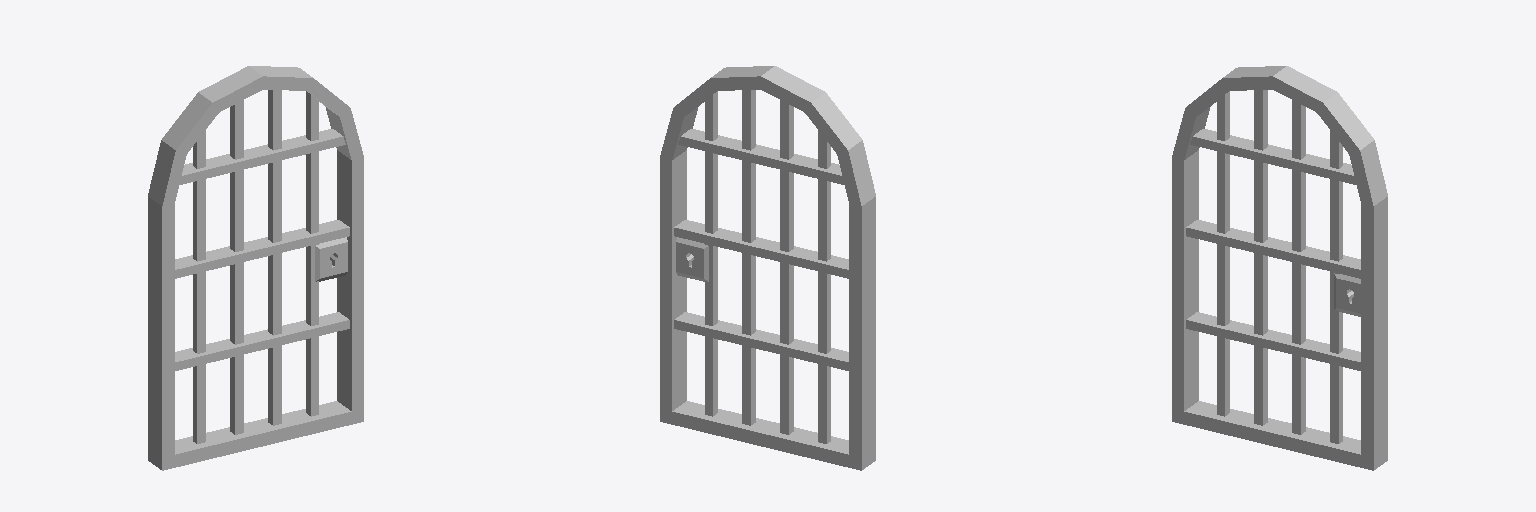
The model's file is iron_bar_door.obj.
The picture shows the model from 3 angles: view 1: azimuth 30°, elevation 25°; view 2: azimuth 150°, elevation 25°; view 3: azimuth 330°, elevation 25°; orthographic projection.
Visible parts, largest first — view 1: object1; view 2: object1; view 3: object1.
Boxes of the visible parts, box(x1,y1,x2,y2) form: object1: box(148, 66, 363, 470); object1: box(660, 66, 875, 470); object1: box(1172, 66, 1387, 470).
Bounding box in the file's own units: 0.8 × 1.4 × 0.1.